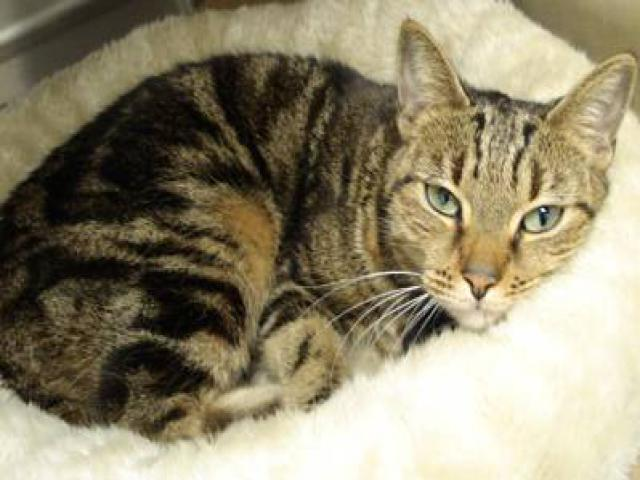cat: (1, 14, 635, 473)
